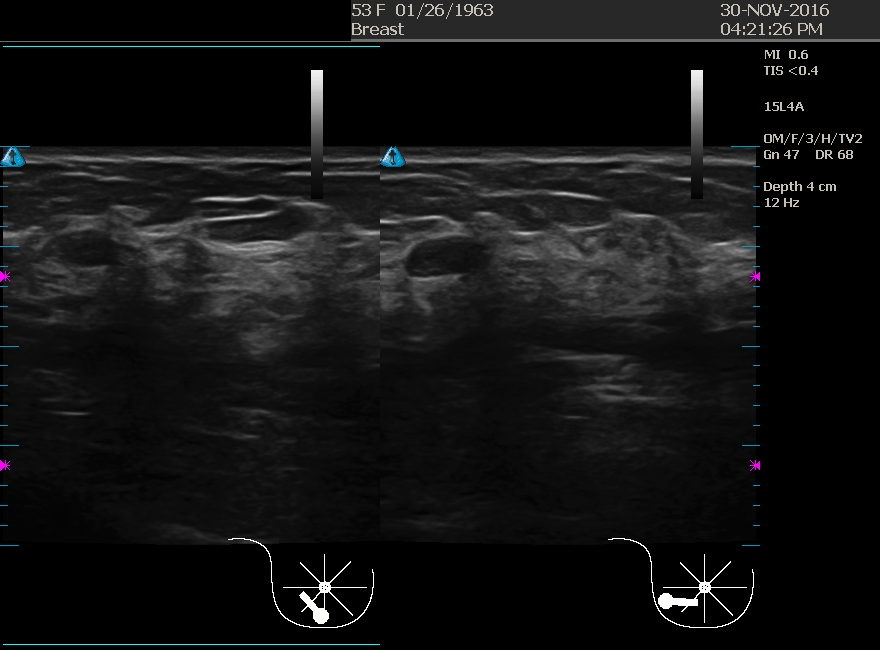BIRADS_2: (21, 180, 221, 380), (384, 202, 584, 402)
